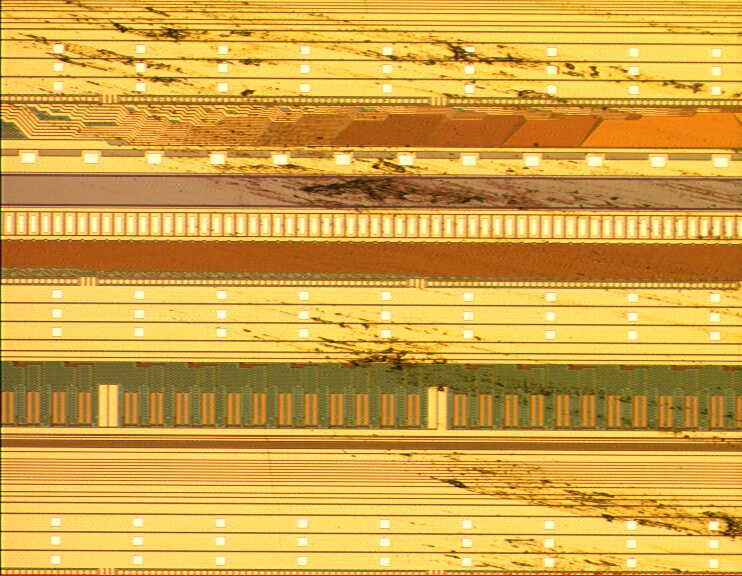SCRATCH: (2, 1, 742, 576)
